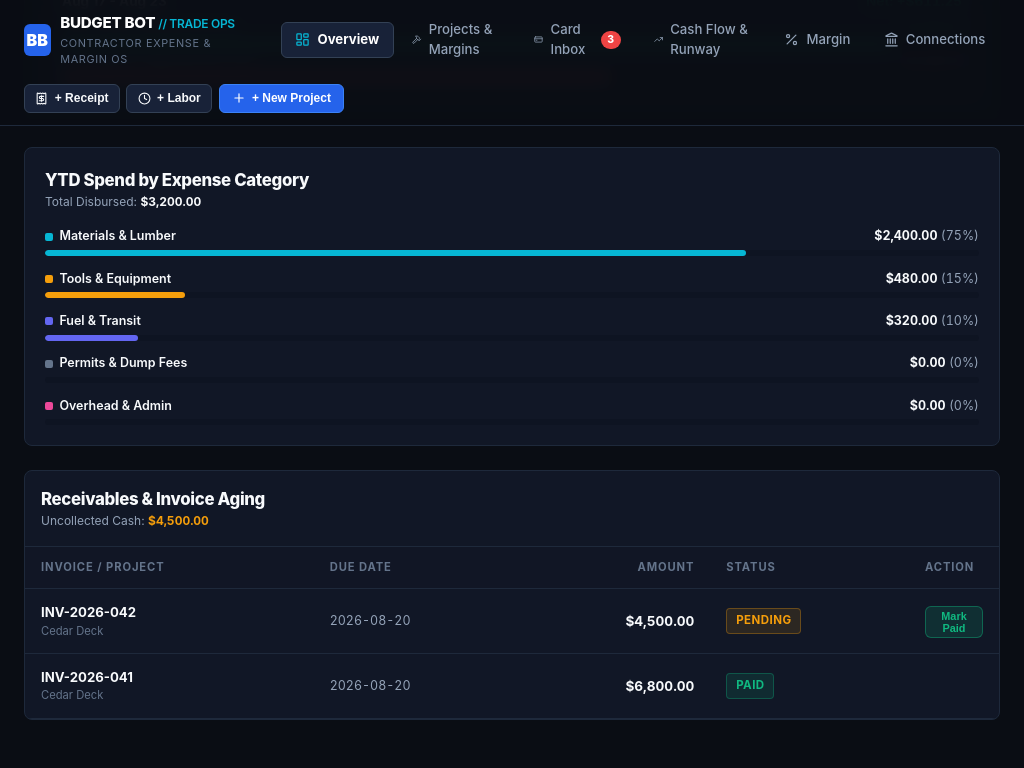
CashFlowView › shows what the action refused, and does not pretend it was paid
(page scrolled)
Click the button "Mark Paid" at (954, 622), box x1=925 y1=606 x2=983 y2=638
(page scrolled)
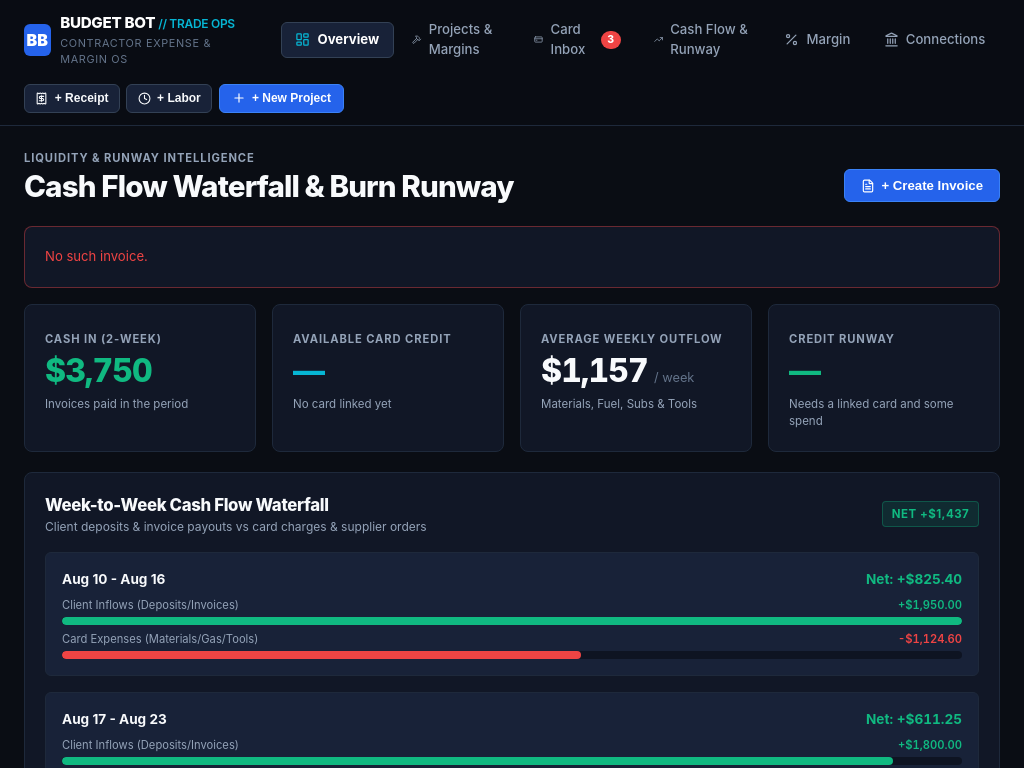
expect the message reads "No such invoice.": met, box x1=45 y1=248 x2=148 y2=264
